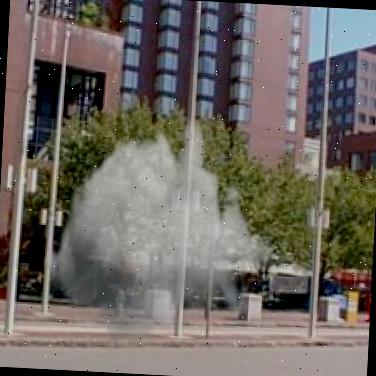smoke: (39, 122, 247, 337)
